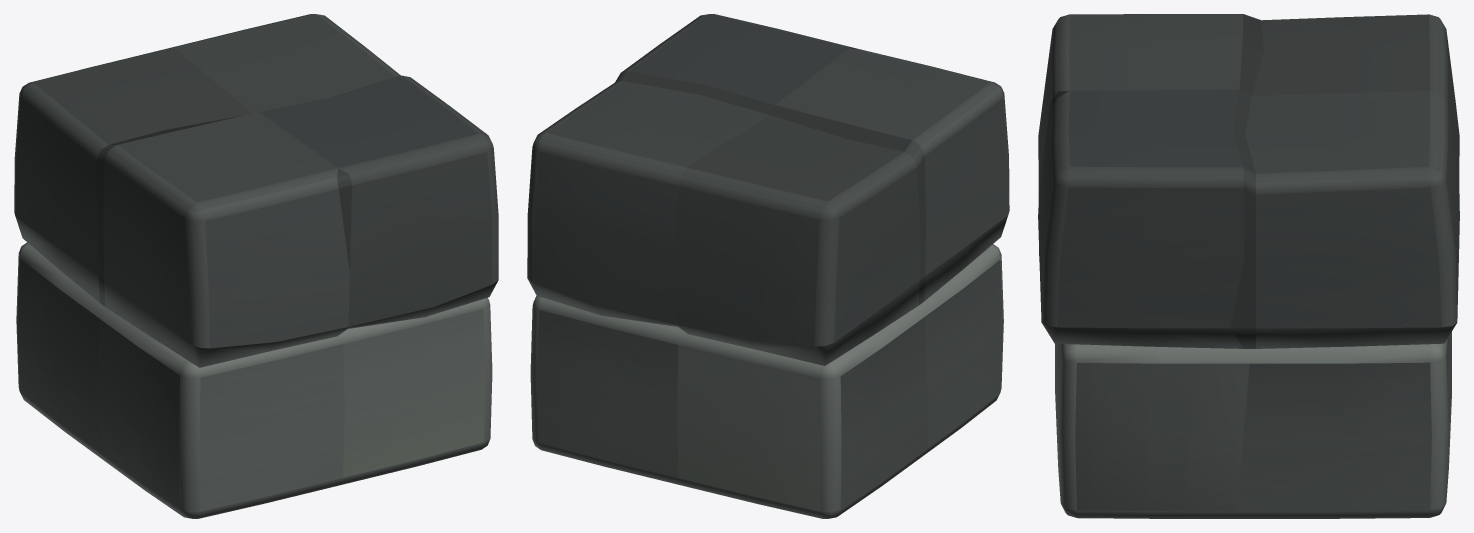
Rendered from tavern_cellar_wall_top.fbx.
The picture shows the model from 3 angles, left to right: view 1: azimuth 30°, elevation 25°; view 2: azimuth 150°, elevation 25°; view 3: azimuth 270°, elevation 25°; orthographic projection. The views are drawn at different scales.
Visible parts, largest first — view 1: tavern_cellar_wall_top_LOD0; view 2: tavern_cellar_wall_top_LOD0; view 3: tavern_cellar_wall_top_LOD0.
Boxes of the visible parts, x1,y1,x2,y2 form: tavern_cellar_wall_top_LOD0: [14, 14, 498, 518]; tavern_cellar_wall_top_LOD0: [527, 14, 1009, 518]; tavern_cellar_wall_top_LOD0: [1038, 14, 1459, 518].
Size of what is drawn, in the model's own units: 104 by 100 by 109.
